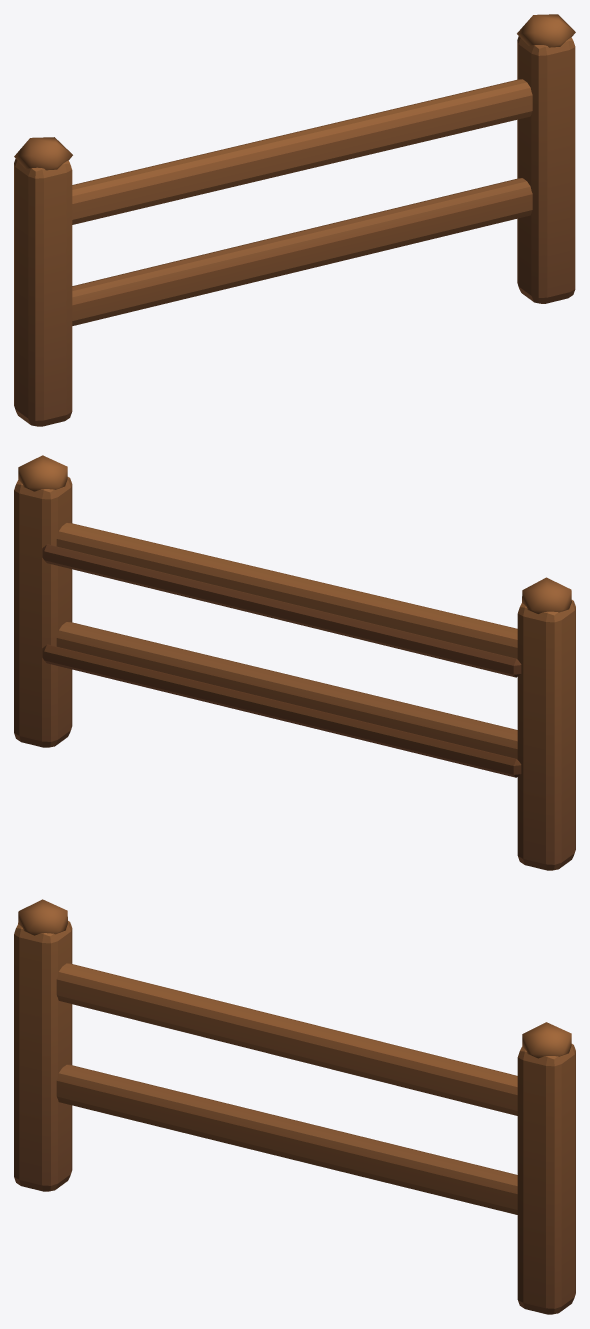
Rendered from fence.glb.
3 renders of one model, top to bottom at view 1: azimuth 30°, elevation 25°; view 2: azimuth 150°, elevation 25°; view 3: azimuth 330°, elevation 25°, orthographic.
Parts seen in each view (by area): view 1: fence; view 2: fence; view 3: fence.
Part boxes in pixels (x1,y1,x2,y2): fence: (14,14,575,426); fence: (14,455,575,870); fence: (14,899,575,1314).
Size of the model in its own units: 2.18 by 1.06 by 0.2115.
